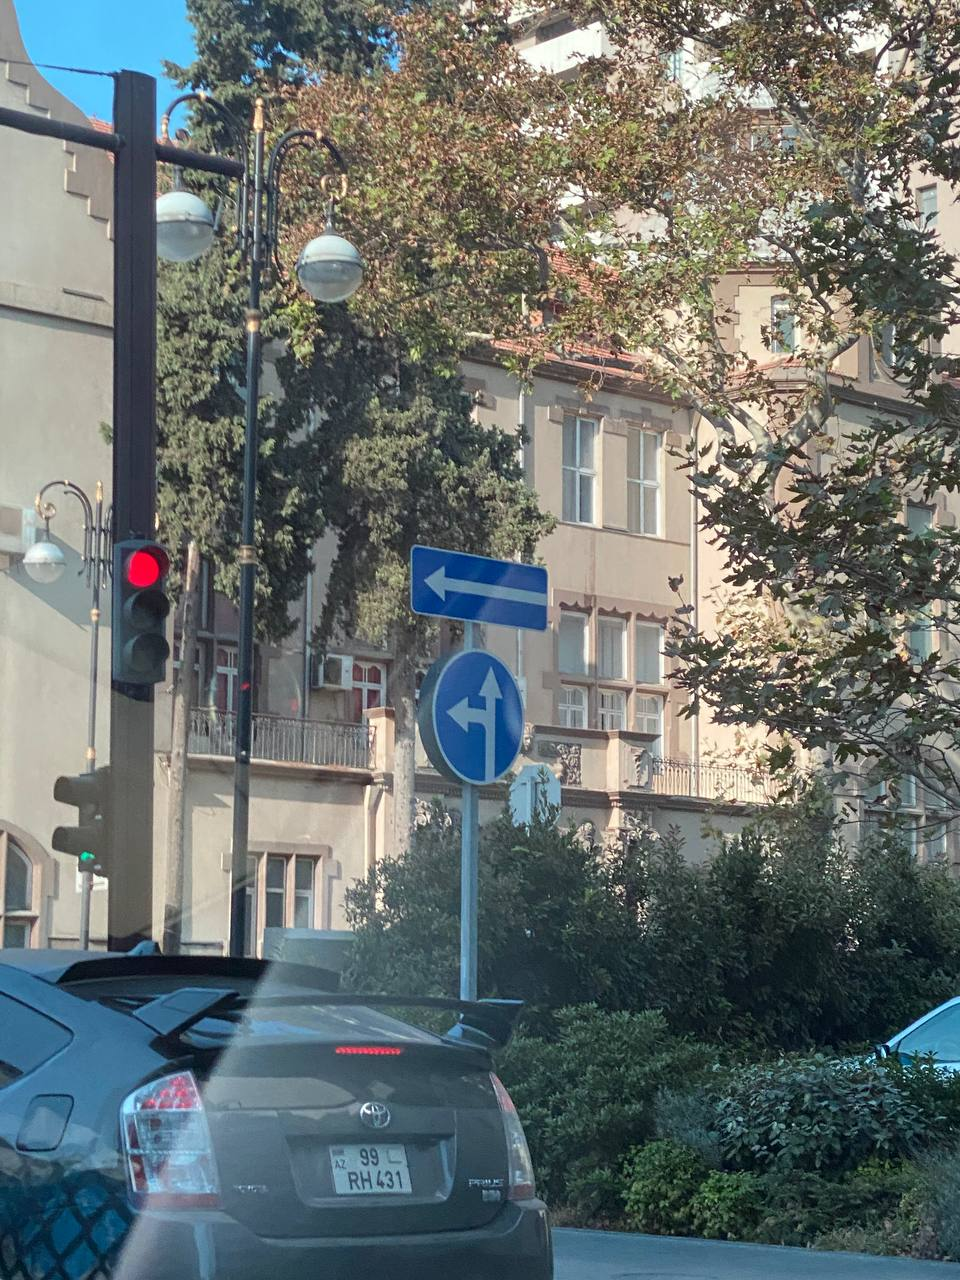One-Way Traffic: (409, 544, 549, 631)
Straight or Left: (433, 650, 526, 786)
